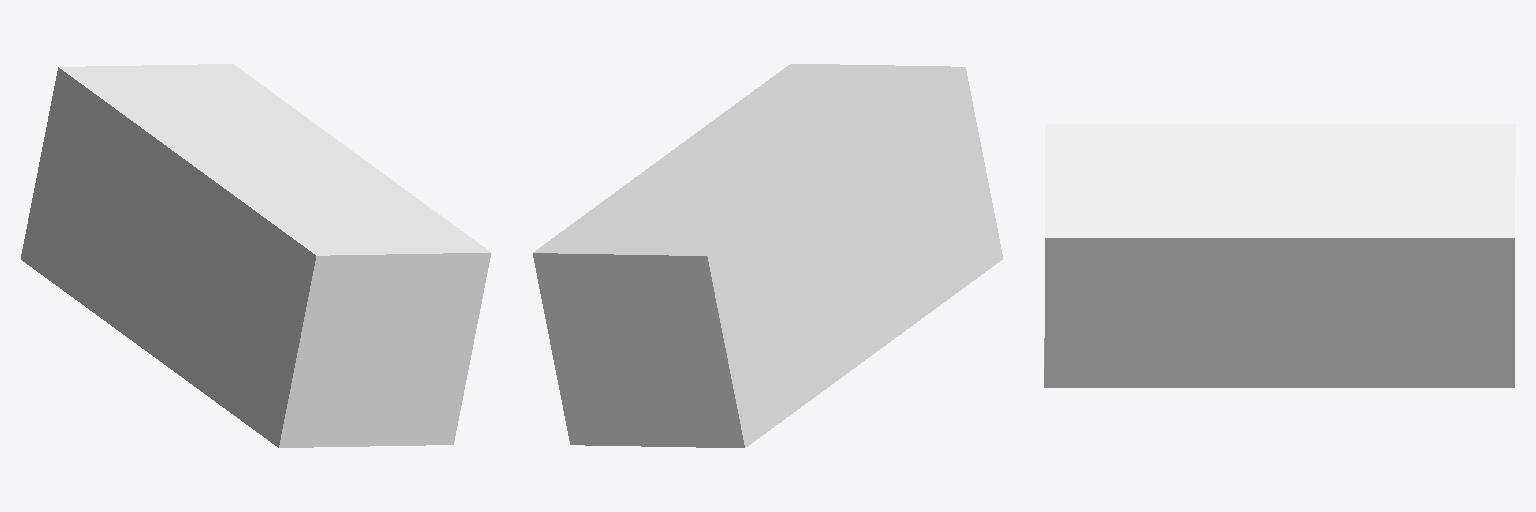
URDF robot description (piper_camera):
<?xml version="1.0"?>
<robot xmlns:xacro="http://www.ros.org/wiki/xacro" name="piper_camera">

    <link name="arm_base">
        <inertial>
        <origin
            xyz="-0.00979274765955341 1.82905827587138E-06 0.0410100126360189"
            rpy="0 0 0" />
        <mass value="10.162548567403693" />
        <inertia
            ixx="0.000226596924525071"
            ixy="-7.33972270153965E-08"
            ixz="2.13249977802622E-06"
            iyy="0.000269444772561524"
            iyz="8.15169009611054E-09"
            izz="0.000222318258878636" />
        </inertial>
        <visual>
        <origin xyz="0 0 0" rpy="0 0 0" />
        <geometry>
            <mesh filename="package://piper_description/meshes/dae/base_link.dae" />
        </geometry>
        <material name="">
            <color rgba="0.792156862745098 0.819607843137255 0.933333333333333 1" />
        </material>
        </visual>
        <collision>
            <origin xyz="0 0 0" rpy="0 0 0" />
            <geometry>
                <mesh filename="package://piper_description/meshes/base_link.STL" />
            </geometry>
        </collision>
    </link>

    <link name="link1">
        <inertial>
        <origin
            xyz="0.00131676031927024 0.000310288842008612 -0.00922874512303437"
            rpy="0 0 0" />
        <mass value="0.0978679932242825" />
        <inertia
            ixx="7.76684558296782E-05"
            ixy="1.09084650459924E-07"
            ixz="-1.9748053243241E-06"
            iyy="9.24967780161547E-05"
            iyz="9.91284646834582E-07"
            izz="8.24589062407807E-05" />
        </inertial>
        <visual>
        <origin xyz="0 0 0" rpy="0 0 0" />
        <geometry>
            <mesh filename="package://piper_description/meshes/dae/link1.dae" />
        </geometry>
        <material name="">
            <color rgba="0.792156862745098 0.819607843137255 0.933333333333333 1" />
        </material>
        </visual>
        <collision>
            <origin xyz="0 0 0" rpy="0 0 1.5708" />
            <geometry>
                <mesh filename="package://piper_description/meshes/link1.STL" />
            </geometry>
        </collision>
    </link>
    <joint name="joint1" type="revolute">
        <origin xyz="0 0 0.123" rpy="0 0 -1.5708" />
        <parent link="arm_base" />
        <child link="link1" />
        <axis xyz="0 0 1" />
        <limit lower="-2.618" upper="2.618" effort="100" velocity="3" />
    </joint>

    <link name="link2">
        <inertial>
        <origin
            xyz="0.148793602378802 -0.00242026983944119 0.00175154638467948"
            rpy="0 0 0" />
        <mass value="0.290888938633388" />
        <inertia
            ixx="0.000148959640166183"
            ixy="-7.37750384371657E-05"
            ixz="-9.68688405196236E-07"
            iyy="0.00172800946632652"
            iyz="-1.09692225564224E-06"
            izz="0.0017754628344594" />
        </inertial>
        <visual>
        <origin xyz="0 0 0" rpy="0 0 0" />
        <geometry>
            <mesh filename="package://piper_description/meshes/dae/link2.dae" />
        </geometry>
        <material name="">
            <color rgba="0.792156862745098 0.819607843137255 0.933333333333333 1" />
        </material>
        </visual>
        <collision>
            <origin xyz="0 0 0" rpy="0 0 0.1" />
            <geometry>
                <mesh filename="package://piper_description/meshes/link2.STL" />
            </geometry>
        </collision>
    </link>
    <joint name="joint2" type="revolute">
        <origin xyz="0 0 0" rpy="1.5708 -0.034907 -1.5708" />
        <parent link="link1" />
        <child link="link2" />
        <axis xyz="0 0 1" />
        <limit lower="0" upper="3.14" effort="100" velocity="3" />
    </joint>

    <link name="link3">
        <inertial>
        <origin
            xyz="-0.0996835215213704 0.0349477226691318 0.000508025815507312"
            rpy="0 0 0" />
        <mass value="0.290847697793211" />
        <inertia
            ixx="0.000107879011637167"
            ixy="2.92669521203626E-05"
            ixz="6.825922326238E-07"
            iyy="0.000214751671792086"
            iyz="-7.78469047878196E-07"
            izz="0.000241923439340319" />
        </inertial>
        <visual>
        <origin xyz="0 0 0" rpy="0 0 0" />
        <geometry>
            <mesh filename="package://piper_description/meshes/dae/link3.dae" />
        </geometry>
        <material name="">
            <color rgba="0.792156862745098 0.819607843137255 0.933333333333333 1" />
        </material>
        </visual>
        <collision>
        <origin xyz="0 0 0" rpy="0 0 -1.75" />
        <geometry>
            <mesh filename="package://piper_description/meshes/link3.STL" />
        </geometry>
        </collision>
    </link>
    <joint name="joint3" type="revolute">
        <origin xyz="0.28358 0.028726 0" rpy="0 0 0.06604341" />
        <parent link="link2" />
        <child link="link3" />
        <axis xyz="0 0 1" />
        <limit lower="-2.697" upper="0" effort="100" velocity="3" />
    </joint>

    <link name="link4">
        <inertial>
        <origin
            xyz="0.000276464622387979 -0.00102803669324875 -0.00472830700561663"
            rpy="0 0 0" />
        <mass value="0.127087348341362" />
        <inertia
            ixx="3.82011730423416E-05"
            ixy="-4.92358350897513E-08"
            ixz="4.89589432973119E-08"
            iyy="4.87048555222578E-05"
            iyz="6.70802942500512E-08"
            izz="4.10592077565559E-05" />
        </inertial>
        <visual>
        <origin xyz="0 0 0" rpy="0 0 0" />
        <geometry>
            <mesh filename="package://piper_description/meshes/dae/link4.dae" />
        </geometry>
        <material name="">
            <color rgba="0.792156862745098 0.819607843137255 0.933333333333333 1" />
        </material>
        </visual>
        <collision>
        <origin xyz="0 0 0" rpy="0 0 0" />
        <geometry>
            <mesh filename="package://piper_description/meshes/link4.STL" />
        </geometry>
        </collision>
    </link>
    <joint name="joint4" type="revolute">
        <origin xyz="-0.24221 0.068514 0" rpy="-1.5708 0 1.3826" />
        <parent link="link3" />
        <child link="link4" />
        <axis xyz="0 0 1" />
        <limit lower="-1.832" upper="1.832" effort="100" velocity="3" />
    </joint>

    <link name="link5">
        <inertial>
        <origin
            xyz="8.82262433516967E-05 0.0566829014808256 -0.00196119720482461"
            rpy="0 0 0" />
        <mass value="0.144711242639457" />
        <inertia
            ixx="4.39644313662493E-05"
            ixy="-3.59259686444846E-08"
            ixz="-1.89747741386183E-08"
            iyy="5.63173920951307E-05"
            iyz="-2.1540716689785E-07"
            izz="4.88713664675268E-05" />
        </inertial>
        <visual>
        <origin xyz="0 0 0" rpy="0 0 0" />
        <geometry>
            <mesh filename="package://piper_description/meshes/dae/link5.dae" />
        </geometry>
        <material name="">
            <color rgba="0.792156862745098 0.819607843137255 0.933333333333333 1" />
        </material>
        </visual>
        <collision>
        <origin xyz="0 0 0" rpy="0 0 -3.14" />
        <geometry>
            <mesh filename="package://piper_description/meshes/link5.STL" />
        </geometry>
        </collision>
    </link>
    <joint name="joint5" type="revolute">
        <origin xyz="0 0 0" rpy="1.5708 0 0" />
        <parent link="link4" />
        <child link="link5" />
        <axis xyz="0 0 1" />
        <limit lower="-1.22" upper="1.22" effort="100" velocity="3" />
    </joint>

    <link name="link6">
        <inertial>
        <origin
            xyz="0.00103120214523473 0.0121761387587524 0.0315480874960164"
            rpy="0 0 0" />
        <mass value="0.195187143240719" />
        <inertia
            ixx="6.43790256535539E-05"
            ixy="-1.2366166157046E-06"
            ixz="1.97664606328472E-07"
            iyy="0.000126146396374301"
            iyz="2.41157078516408E-06"
            izz="0.000154087076816444" />
        </inertial>
        <visual>
        <origin xyz="-0.002 -0.008 0" rpy="-1.57 0 0" />
        <geometry>
            <mesh filename="package://piper_description/meshes/dae/camera_v3.dae"/>
        </geometry>
        <material name="">
            <color rgba="0.792156862745098 0.819607843137255 0.933333333333333 1" />
        </material>
        </visual>
        <collision>
        <origin xyz="-0.002 -0.008 0" rpy="-1.57 0 0" />
        <geometry>
            <mesh filename="package://piper_description/meshes/dae/camera_v3.dae"/>
        </geometry>
        </collision>
    </link>
    <joint name="joint6" type="revolute">
        <origin xyz="0 0.091 0.0014165" rpy="-1.5708 -1.5708 0" />
        <parent link="link5" />
        <child link="link6" />
        <axis xyz="0 0 1" />
        <limit lower="-3.14" upper="3.14" effort="100" velocity="3" />
    </joint>

    <link name="link7">
        <inertial>
        <origin
            xyz="-0.000277778383727112 -0.0467673043650824 -0.00921029491873201"
            rpy="0 0 0" />
        <mass value="0.02648229234527" />
        <inertia
            ixx="9.99787479924589E-06"
            ixy="-1.57548495096104E-07"
            ixz="-2.71342775003487E-08"
            iyy="6.1795212293655E-06"
            iyz="-1.58939803580081E-06"
            izz="1.42102717246564E-05" />
        </inertial>
        <visual>
        <origin xyz="0 0 0" rpy="0 0 0" />
        <geometry>
            <mesh filename="package://piper_description/meshes/dae/link7.dae" />
        </geometry>
        <material name="">
            <color rgba="0.792156862745098 0.819607843137255 0.933333333333333 1" />
        </material>
        </visual>
        <collision>
        <origin xyz="-0.001 0 0.0003" rpy="0 3.14 0" />
        <geometry>
            <mesh filename="package://piper_description/meshes/link7.STL" />
        </geometry>
        </collision>
    </link>
    <joint name="joint7" type="prismatic">
        <origin xyz="0 0 0.13503" rpy="1.5708 0 1.5708" />
        <parent link="link6" />
        <child link="link7" />
        <axis xyz="0 0 -1" />
        <limit lower="0" upper="0.05" effort="100" velocity="1" />
    </joint>

    <link name="link8">
        <inertial>
        <origin
            xyz="0.000277816920932317 0.0467673824063769 -0.00921030054508036"
            rpy="0 0 0" />
        <mass value="0.0264822021416248" />
        <inertia
            ixx="9.99779119357223E-06"
            ixy="-1.57542283433504E-07"
            ixz="2.71367446701359E-08"
            iyy="6.17952441557932E-06"
            iyz="1.58939319453383E-06"
            izz="1.4210192754512E-05" />
        </inertial>
        <visual>
        <origin xyz="0 0 0" rpy="0 0 0" />
        <geometry>
            <mesh filename="package://piper_description/meshes/dae/link8.dae" />
        </geometry>
        <material name="">
            <color rgba="0.792156862745098 0.819607843137255 0.933333333333333 1" />
        </material>
        </visual>
        <collision>
        <origin xyz="-0.001 0 0.0003" rpy="3.14 0 0" />
        <geometry>
            <mesh filename="package://piper_description/meshes/link8.STL" />
        </geometry>
        </collision>
    </link>
    <joint name="joint8" type="prismatic">
        <origin xyz="0 0 0.13503" rpy="-1.5708 0 1.5708" />
        <parent link="link6" />
        <child link="link8" />
        <axis xyz="0 0 1" />
        <limit lower="-0.05" upper="0" effort="100" velocity="1" />
    </joint>

   <link
    name="hand_cam">
    <inertial>
      <origin
        xyz="0.0009804 0.025556 -0.036977"
        rpy="0 0 0" />
      <mass
        value="0.0067926" />
      <inertia
        ixx="3.7811E-05"
        ixy="2.2861E-18"
        ixz="2.2446E-19"
        iyy="9.4061E-05"
        iyz="6.1172E-06"
        izz="0.00012345" />
    </inertial>
    <visual>
      <origin
        xyz="0 0 0"
        rpy="0 0 0" />
      <geometry>
          <box size="0.02 0.05 0.02"/>
      </geometry>
      <material
        name="">
        <color
          rgba="1 1 1 1" />
      </material>
    </visual>
    <collision>
      <origin
        xyz="0 0 0"
        rpy="0 1.57 0" />
      <geometry>
        <box size="0.001 0.001 0.001"/>
      </geometry>
    </collision>
  </link>

  <joint
    name="hand_camera_joint"
    type="fixed">
    <origin
      xyz="0.0 0.075 0.03"
      rpy="0 -0.3 1.57 " />
    <parent
      link="link6" />
    <child
      link="hand_cam" />
    <axis
      xyz="0 0 0" />
  </joint>

</robot>

--- Render facts (derived) ---
The picture shows the robot from 3 angles, left to right: view 1: azimuth 30°, elevation 25°; view 2: azimuth 150°, elevation 25°; view 3: azimuth 270°, elevation 25°; orthographic projection.
Model piper_camera with 10 links and 9 joints (6 revolute, 2 prismatic, 1 fixed), rooted at arm_base, posed every joint at zero.
Links seen in each view (by area): view 1: hand_cam; view 2: hand_cam; view 3: hand_cam.
Link boxes in pixels (<box>): hand_cam: <box>21,64,490,447</box>; hand_cam: <box>533,64,1002,447</box>; hand_cam: <box>1044,124,1515,387</box>.
Size in the robot's own frame: 0.0238 by 0.05 by 0.0238 metres.
0 mesh visuals loaded from 9 distinct referenced files (none loaded); not drawn: 9 (reference not matched to a file when rendering).